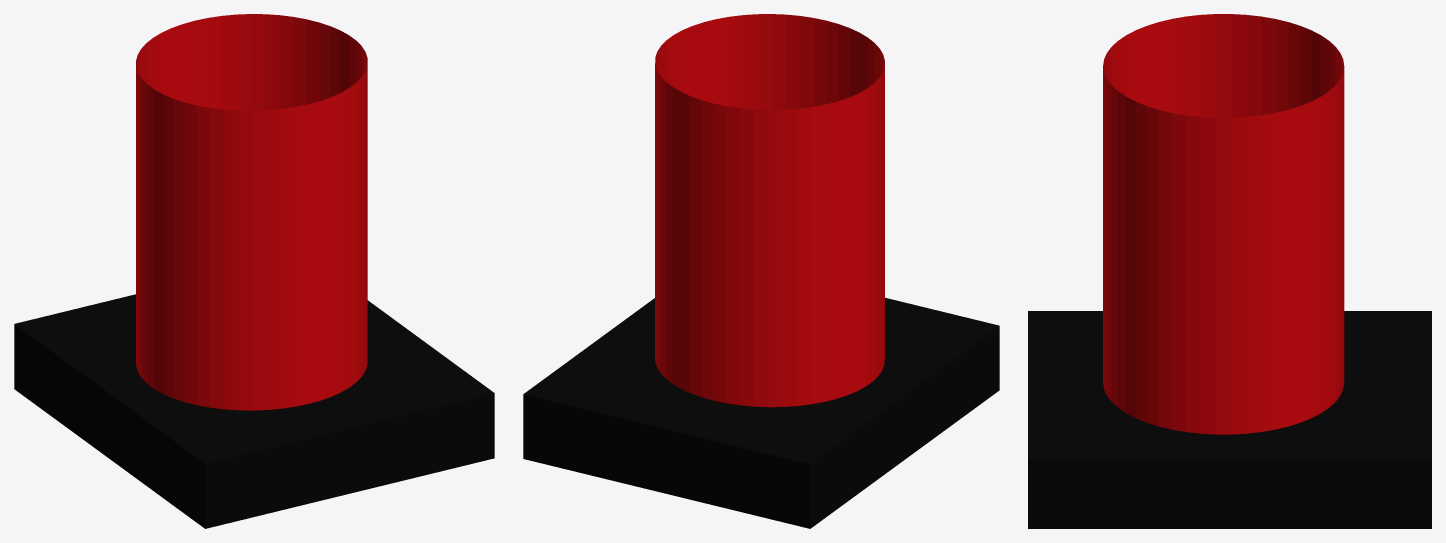
File: recipiente.FBX
The picture shows the model from 3 angles, left to right: view 1: azimuth 30°, elevation 25°; view 2: azimuth 150°, elevation 25°; view 3: azimuth 270°, elevation 25°; orthographic projection. The views are drawn at different scales.
Parts seen in each view (by area): view 1: Cilindro; view 2: Cilindro; view 3: Cilindro.
Boxes of the visible parts, left/top/right/bottom form: Cilindro: left=14, top=14, right=494, bottom=528; Cilindro: left=523, top=14, right=999, bottom=528; Cilindro: left=1028, top=14, right=1431, bottom=528.
Size of the model in its own units: 116 by 139 by 132.
